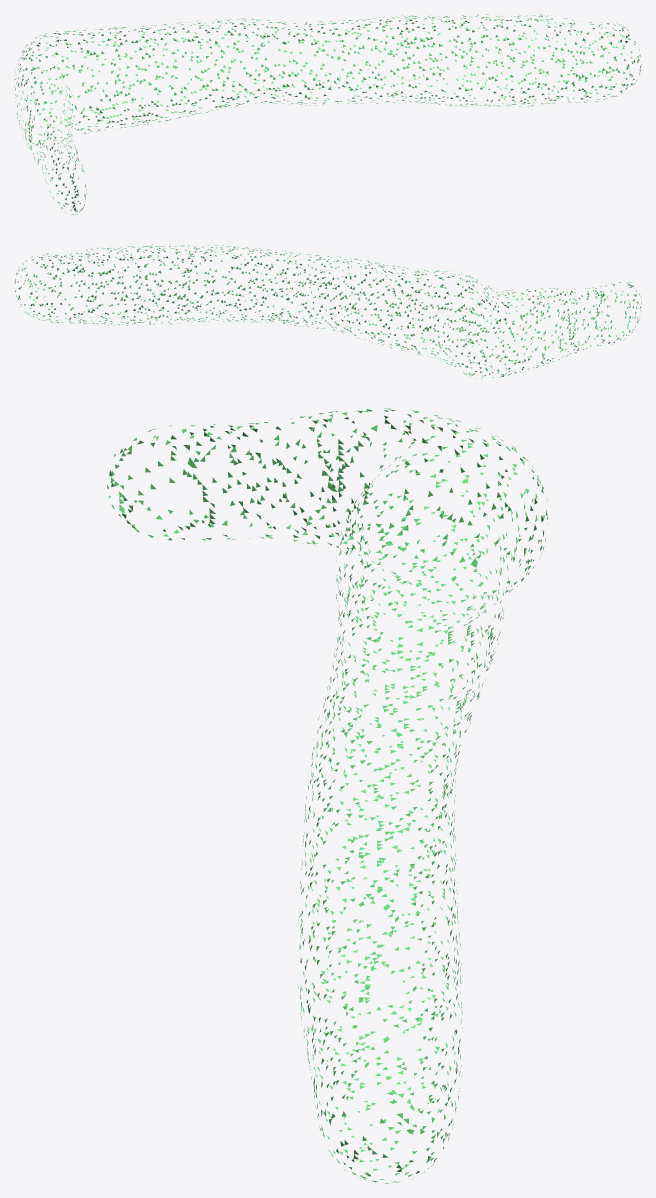
File: morph_019.glb
3 renders of one model, top to bottom at view 1: azimuth 30°, elevation 25°; view 2: azimuth 150°, elevation 25°; view 3: azimuth 270°, elevation 25°, orthographic. The views are drawn at different scales.
Size of the model in its own units: 149 by 38.37 by 51.11.
